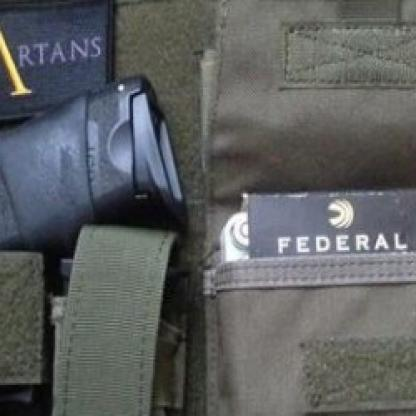gun: (0, 77, 183, 414)
